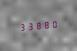eight: (42, 19, 49, 30), (34, 20, 41, 30)
three: (18, 21, 25, 32), (26, 21, 33, 31)
zero: (50, 18, 57, 29)
